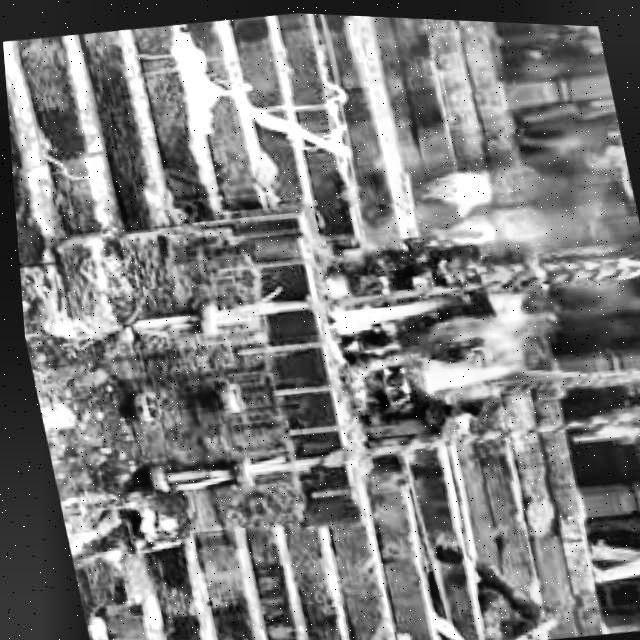Fire: (318, 274, 546, 403)
